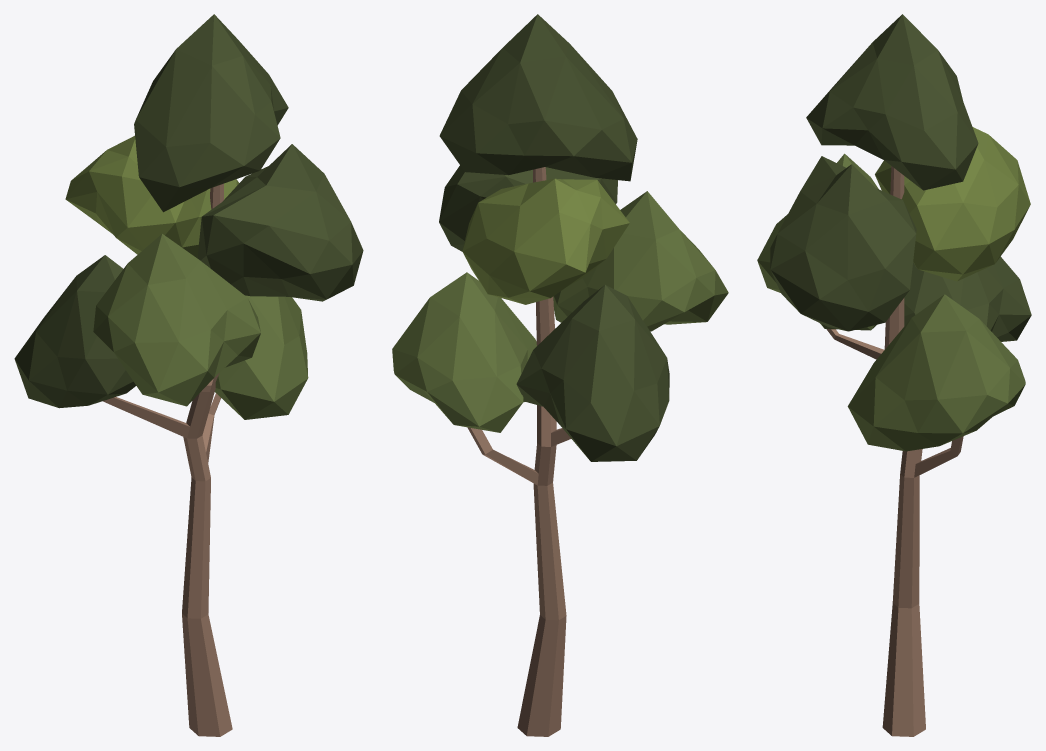
The model's file is Tree_Type4_04.glb.
The picture shows the model from 3 angles, left to right: view 1: azimuth 30°, elevation 25°; view 2: azimuth 150°, elevation 25°; view 3: azimuth 270°, elevation 25°; orthographic projection.
Visible parts, largest first — view 1: Tree Type4 04 Model; view 2: Tree Type4 04 Model; view 3: Tree Type4 04 Model.
Boxes of the visible parts, bbox=[...] form: Tree Type4 04 Model: bbox=[14, 14, 363, 736]; Tree Type4 04 Model: bbox=[392, 14, 728, 736]; Tree Type4 04 Model: bbox=[757, 14, 1031, 736].
Bounding box in the file's own units: 2.49 × 6.35 × 2.21.
Materials: 1 (1 with a texture image).
